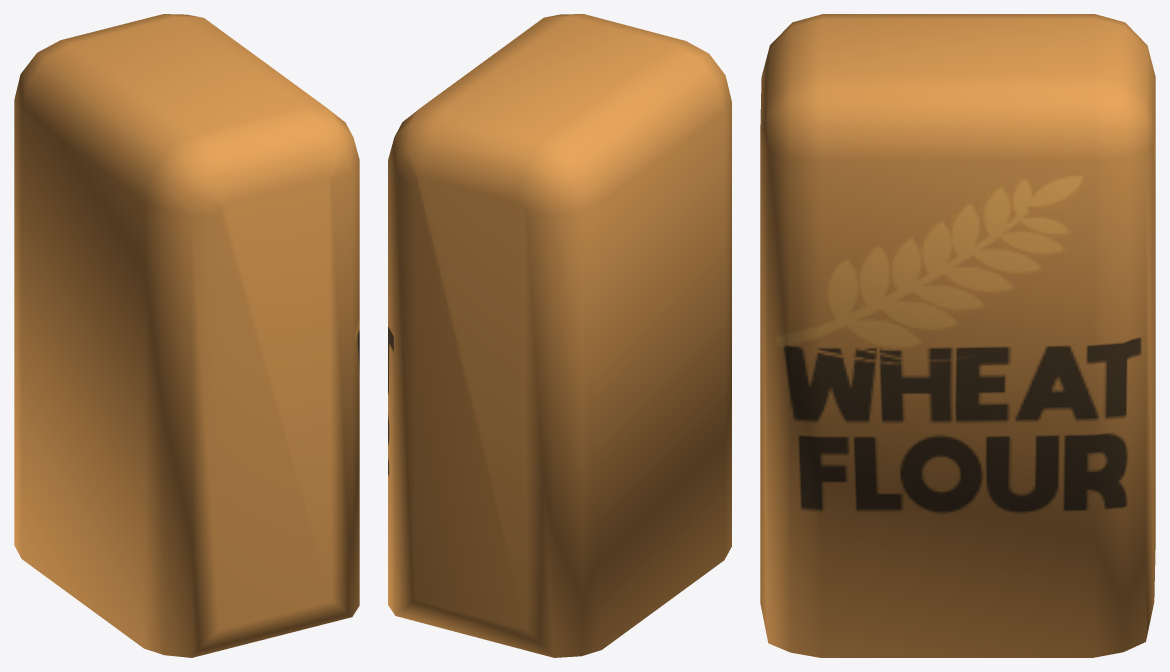
File: WheatFlour-Lowpoly.fbx
3 views of the same model, side by side, from view 1: azimuth 30°, elevation 25°; view 2: azimuth 150°, elevation 25°; view 3: azimuth 270°, elevation 25° (orthographic). The views are drawn at different scales.
Visible parts, largest first — view 1: WheatFlour; view 2: WheatFlour; view 3: WheatFlour.
Boxes of the visible parts, x1,y1,x2,y2 form: WheatFlour: [14, 14, 359, 657]; WheatFlour: [388, 14, 731, 657]; WheatFlour: [760, 14, 1155, 657].
Size of the model in its own units: 57.09 by 133 by 84.97.
